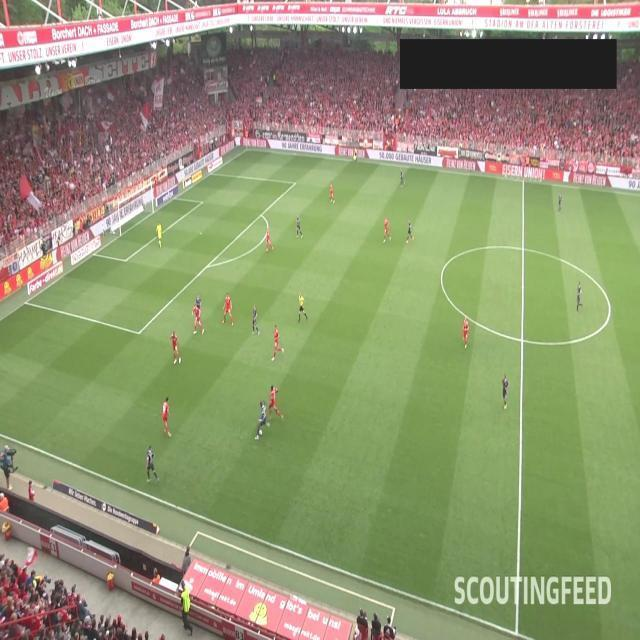Ball: (258, 427, 264, 437)
Corner: (243, 134, 250, 153)
GoalKeeper: (156, 221, 162, 249)
Referee: (298, 291, 308, 323), (352, 145, 358, 163)
TEAM 1: (268, 386, 284, 420), (272, 324, 284, 362), (162, 396, 172, 438), (222, 292, 234, 326), (170, 331, 182, 364), (192, 303, 204, 335), (462, 315, 470, 349), (266, 226, 274, 252), (383, 217, 391, 243), (329, 183, 335, 204)
TEAM 2: (254, 400, 270, 440), (146, 444, 160, 484), (502, 374, 509, 411), (252, 304, 260, 336), (194, 294, 202, 324), (406, 218, 414, 244), (576, 281, 582, 312), (296, 215, 302, 239), (400, 169, 404, 187), (558, 194, 562, 212)
